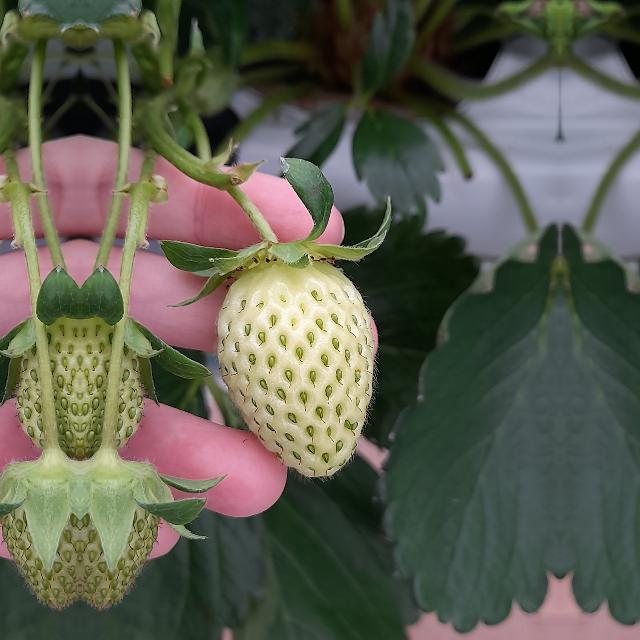Health_25: (218, 260, 374, 476), (80, 300, 146, 458), (15, 300, 80, 458), (80, 470, 156, 602), (5, 470, 80, 602)
